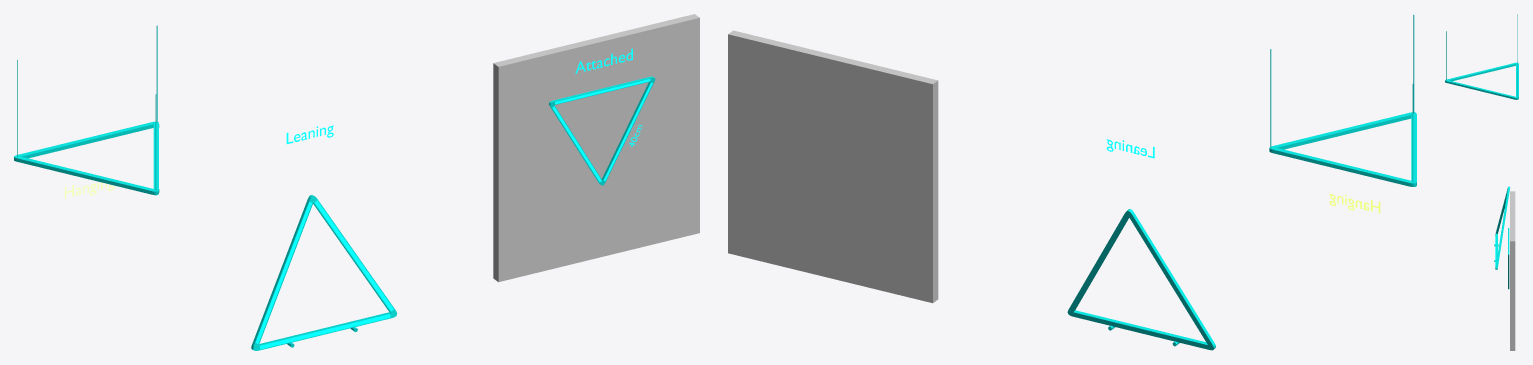
The model's file is TriangleLights.fbx.
3 renders of one model, left to right at view 1: azimuth 30°, elevation 25°; view 2: azimuth 150°, elevation 25°; view 3: azimuth 270°, elevation 25°, orthographic. The views are drawn at different scales.
Parts seen in each view (by area): view 1: Wall, Cylinder.003, BezierCurve.003, Segment_2, Segment_3, Segment_1; view 2: Wall, Cylinder.003, Segment_2, Segment_3, Segment_1; view 3: Wall, Cylinder.003, Segment_1, BezierCurve.003, Segment_2, Segment_3.
Part boxes in pixels (left/top/right/bottom): Wall: left=493, top=14, right=699, bottom=282; Cylinder.003: left=14, top=25, right=159, bottom=195; BezierCurve.003: left=549, top=76, right=655, bottom=185; Segment_2: left=252, top=200, right=313, bottom=345; Segment_3: left=258, top=312, right=391, bottom=350; Segment_1: left=313, top=199, right=394, bottom=312; Wall: left=728, top=30, right=938, bottom=303; Cylinder.003: left=1269, top=14, right=1416, bottom=186; Segment_2: left=1129, top=214, right=1213, bottom=344; Segment_3: left=1073, top=310, right=1208, bottom=349; Segment_1: left=1069, top=214, right=1129, bottom=311; Wall: left=1510, top=191, right=1515, bottom=350; Cylinder.003: left=1445, top=14, right=1518, bottom=99; Segment_1: left=1496, top=189, right=1509, bottom=266; BezierCurve.003: left=1508, top=228, right=1509, bottom=289; Segment_2: left=1496, top=189, right=1507, bottom=233; Segment_3: left=1495, top=233, right=1497, bottom=268.
Bounding box in the file's own units: 2139 × 1003 × 396.
